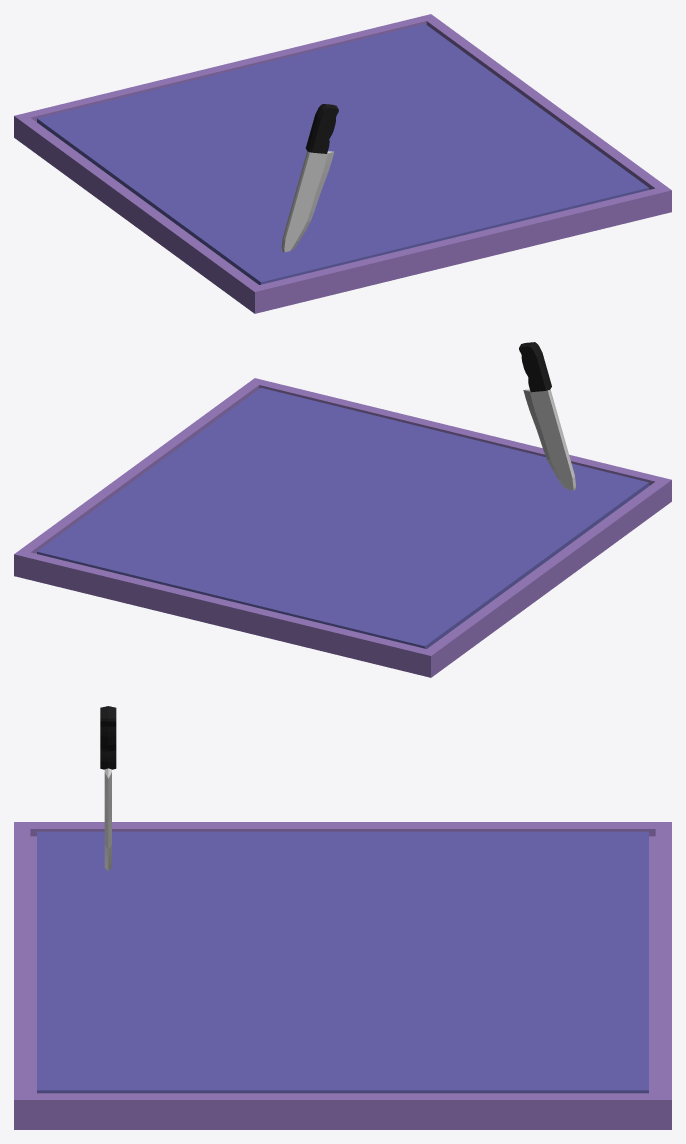
Rendered from Board.fbx.
3 renders of one model, top to bottom at view 1: azimuth 30°, elevation 25°; view 2: azimuth 150°, elevation 25°; view 3: azimuth 270°, elevation 25°, orthographic. The views are drawn at different scales.
Parts seen in each view (by area): view 1: Knife.002, Knife.001; view 2: Knife.002, Knife.001; view 3: Knife.002, Knife.001.
Part boxes in pixels (x1,y1,x2,y2): Knife.002: [14, 14, 671, 313]; Knife.001: [281, 104, 338, 252]; Knife.002: [14, 378, 671, 677]; Knife.001: [519, 342, 575, 490]; Knife.002: [14, 822, 671, 1129]; Knife.001: [100, 706, 116, 871].
Size of the model in its own units: 4000 by 1449 by 4000.
